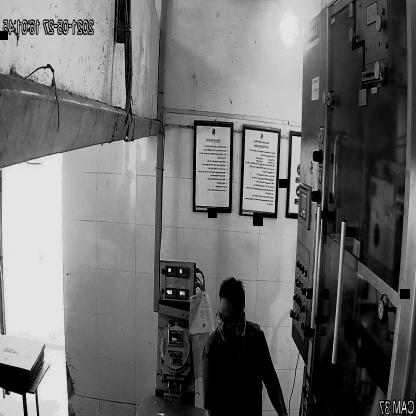goggles: (214, 302, 246, 331)
